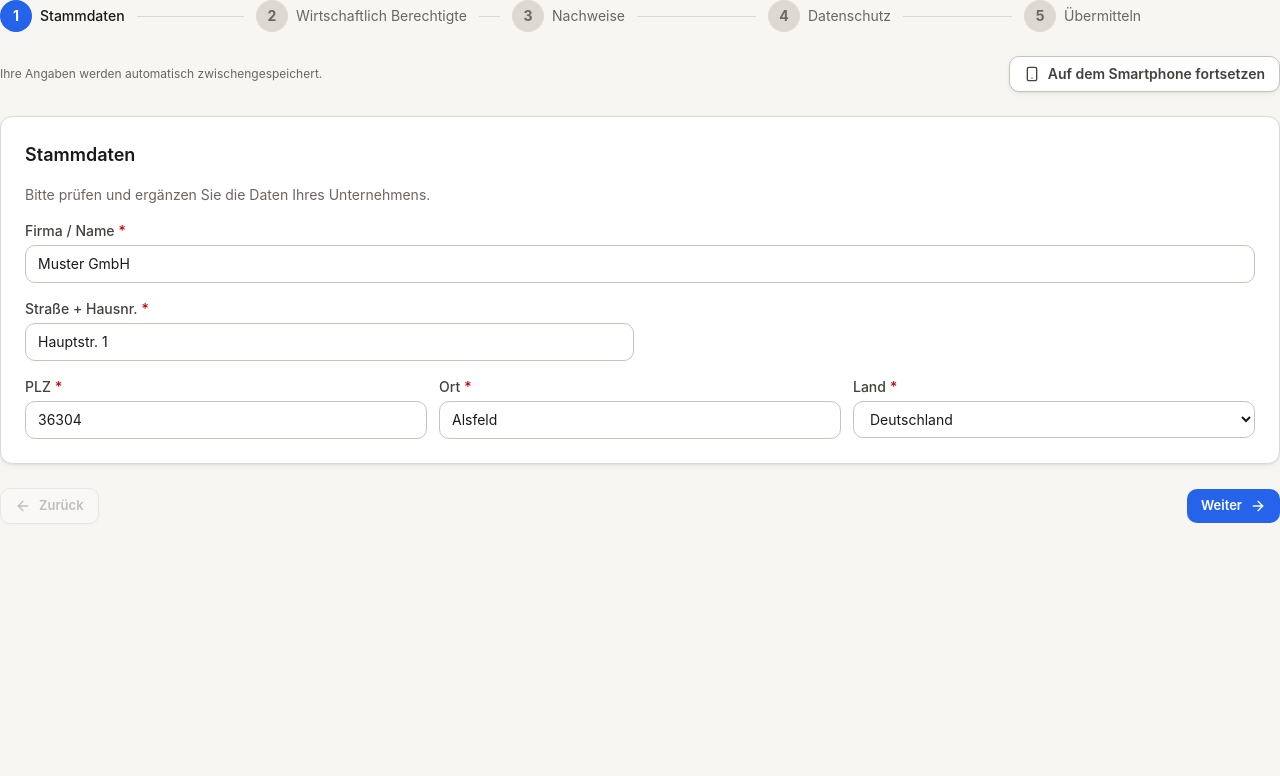
Test: GwG-Onboarding – Personenübersicht › öffnet eine neue Person direkt und bietet vollständige Personen zum Bearbeiten an
The image size is (1280, 776).
Click the button "Weiter" at (1234, 506), box [1187,489,1279,522]
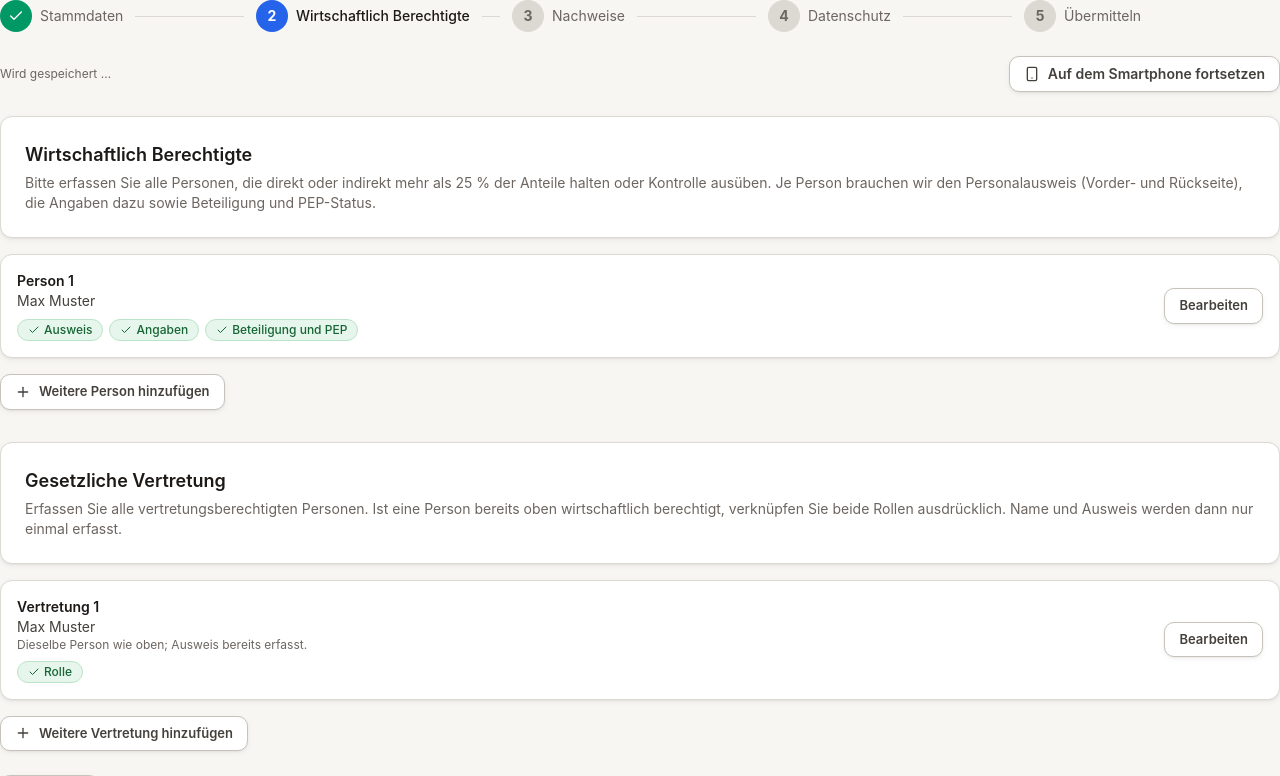
Result: the button with aria-label "Person 1: Bearbeiten" is shown at [1164,288,1263,324]
Click the button "Weitere Person hinzufügen" at (112, 392), box [0,374,224,410]
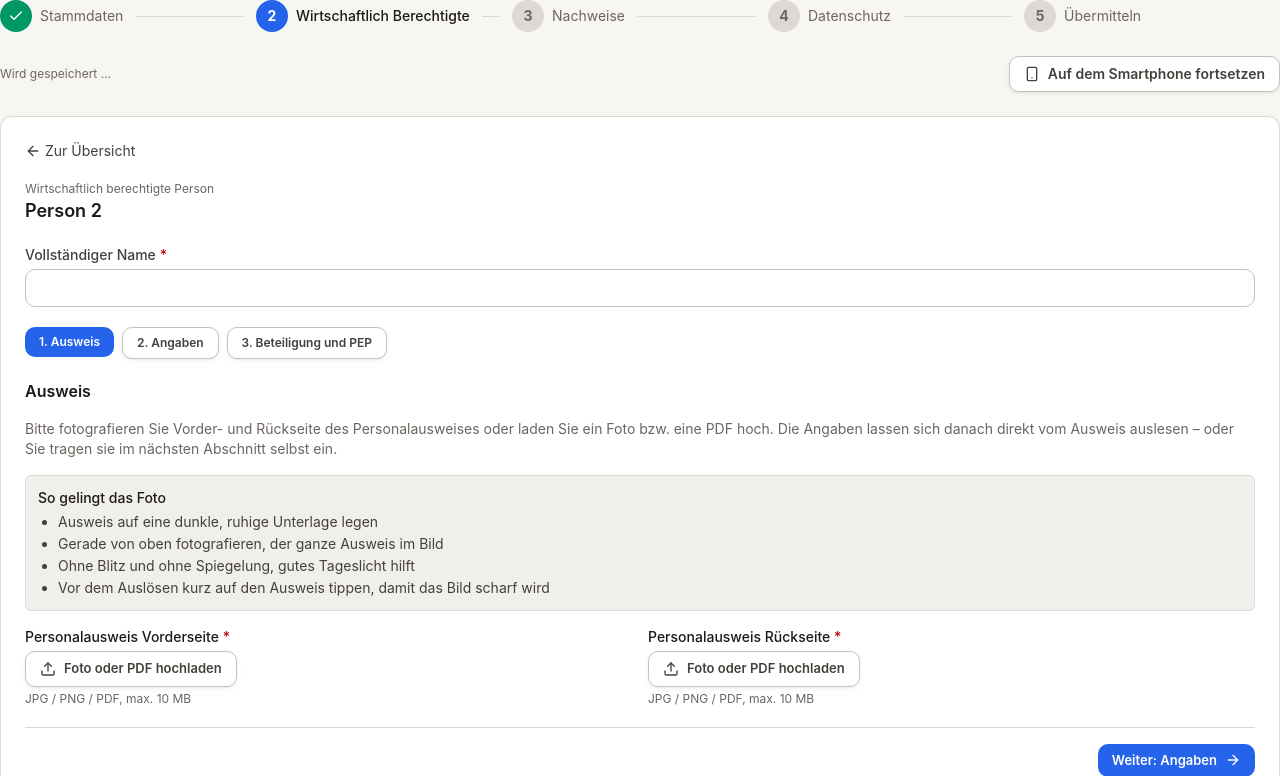
Click the button "Zur Übersicht" at (80, 151), box [25,141,135,161]
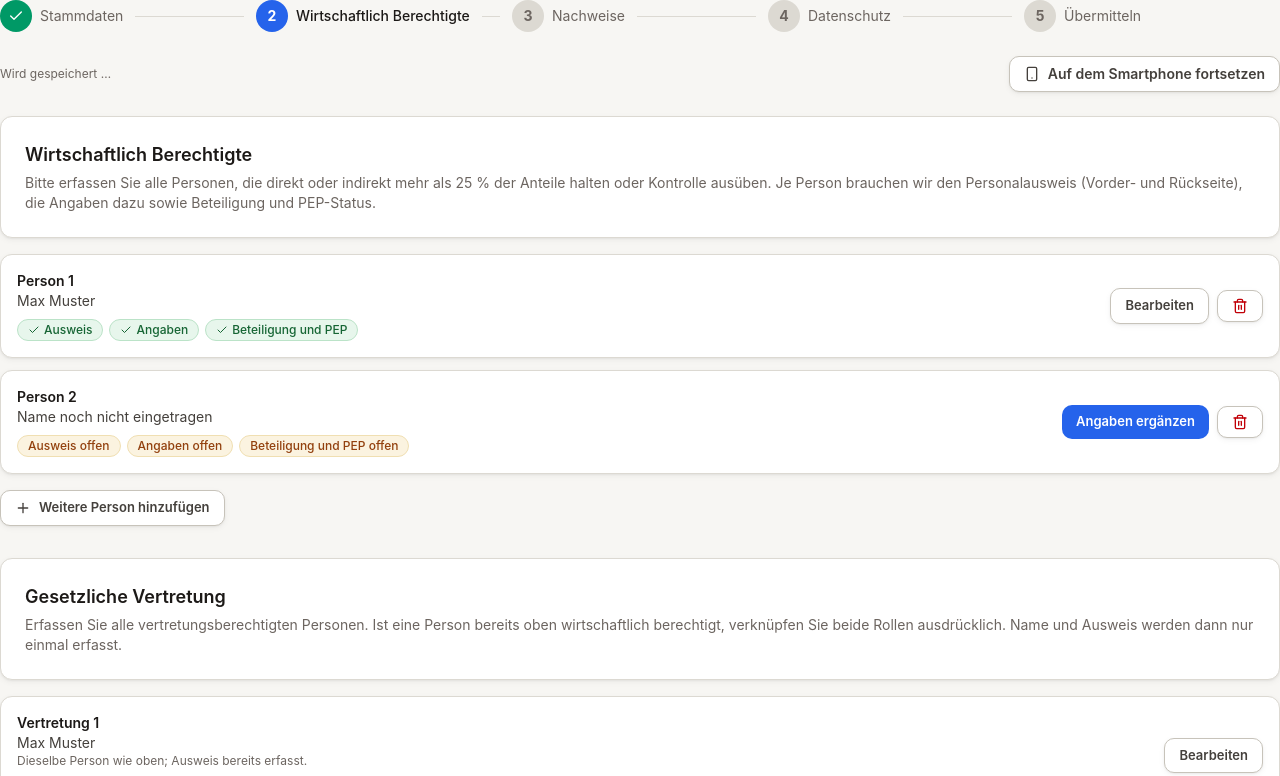
Result: the button with aria-label "Person 2: Angaben ergänzen" is shown at [1062,405,1209,439]
